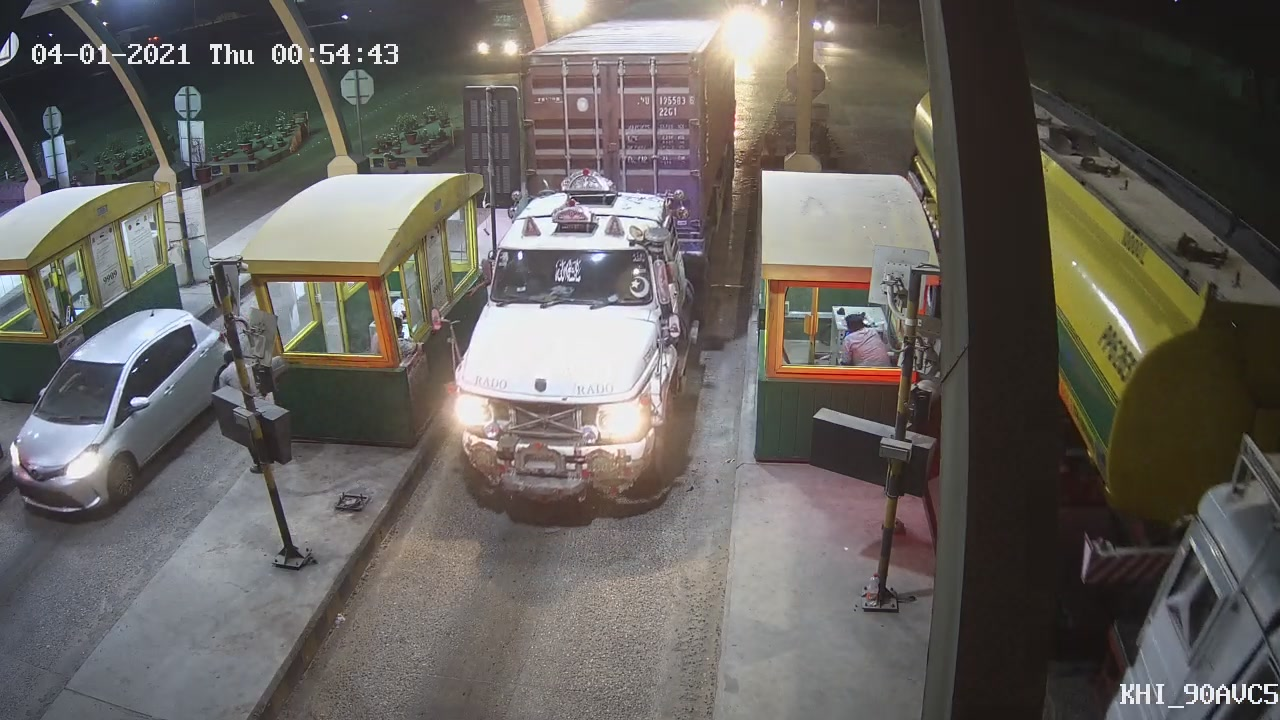F5: (458, 43, 729, 504)
